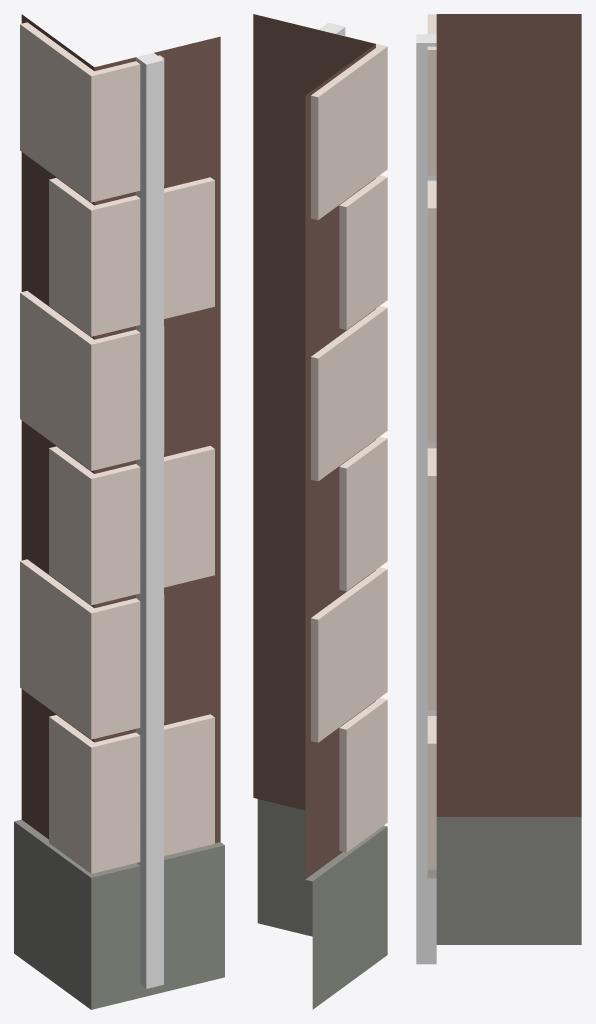
3 views of the same model, side by side, from view 1: azimuth 30°, elevation 25°; view 2: azimuth 150°, elevation 25°; view 3: azimuth 270°, elevation 25° (orthographic). The views are drawn at different scales.
Visible parts, largest first — view 1: a2000s2/800/base-c1; view 2: a2000s2/800/base-c1; view 3: a2000s2/800/base-c1.
Boxes of the visible parts, <box> form: a2000s2/800/base-c1: <box>14,14,224,1009</box>; a2000s2/800/base-c1: <box>253,14,387,1009</box>; a2000s2/800/base-c1: <box>416,14,581,964</box>.
Size of the model in its own units: 0.53 by 3.55 by 0.57.
